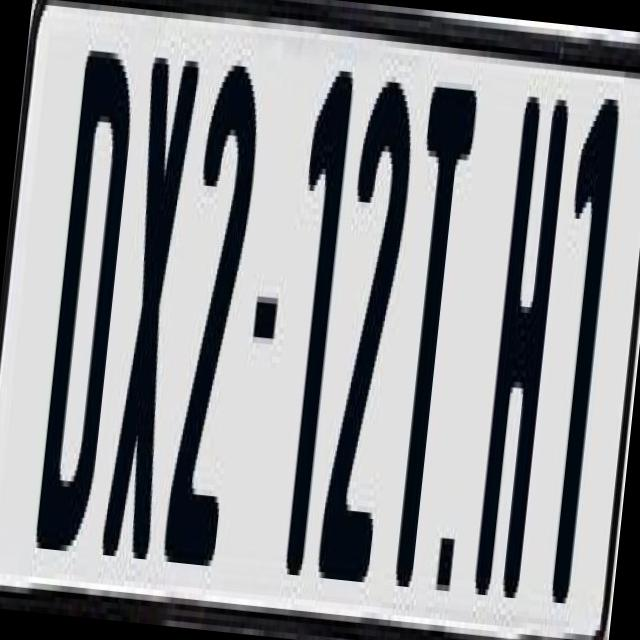1: (264, 57, 359, 576), (532, 96, 624, 604)
2: (159, 51, 272, 578), (312, 73, 419, 606)
D: (28, 38, 140, 576)
H: (466, 96, 568, 622)
T: (376, 80, 486, 619)
X: (94, 45, 201, 582)
